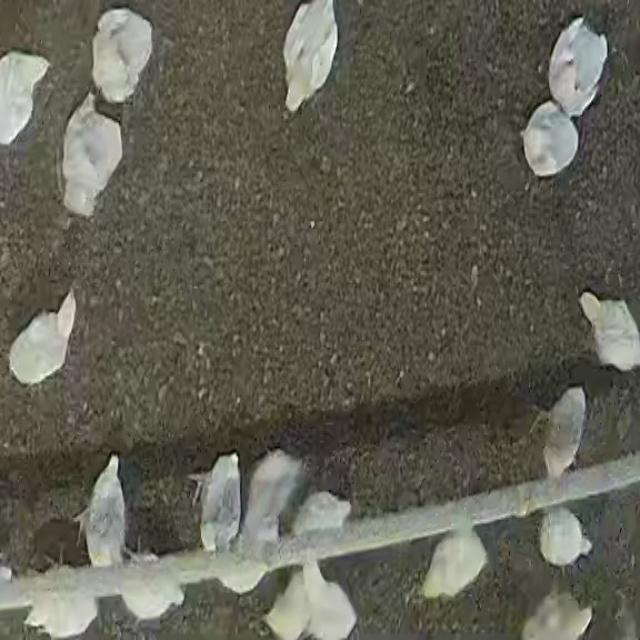chicken: (274, 0, 342, 116), (59, 96, 122, 215), (8, 292, 76, 387), (547, 18, 611, 115), (90, 7, 154, 103), (80, 453, 129, 568), (196, 444, 245, 554), (420, 527, 489, 601), (579, 292, 639, 373), (25, 572, 98, 636), (0, 50, 50, 143), (519, 103, 580, 176), (124, 547, 184, 619), (301, 561, 354, 640), (245, 448, 299, 525), (542, 388, 587, 480), (222, 520, 276, 591), (541, 508, 596, 573), (526, 591, 589, 640), (269, 574, 311, 640), (294, 498, 350, 544)
